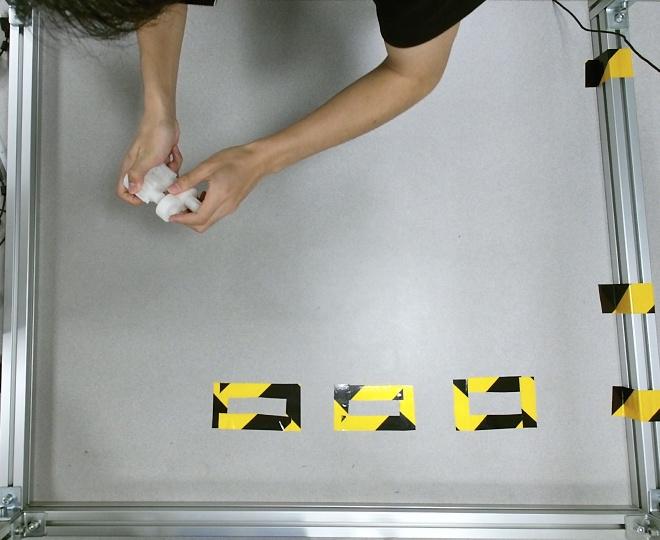stage_3: (123, 161, 205, 222)
